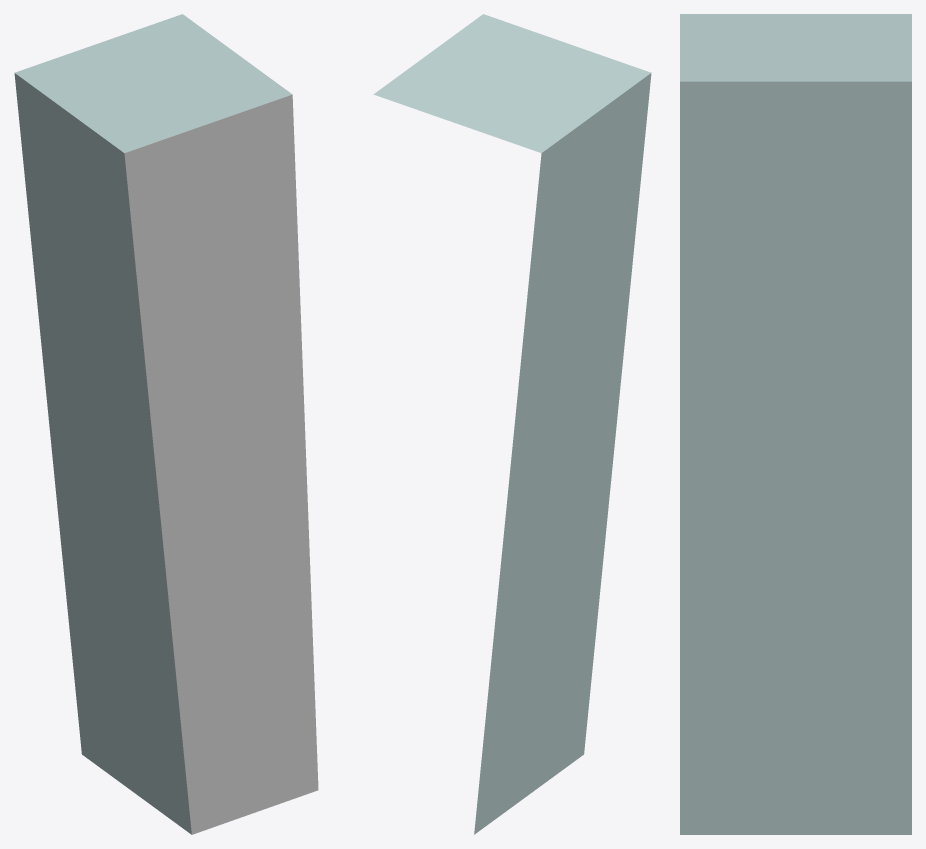
3 views of the same model, side by side, from view 1: azimuth 30°, elevation 25°; view 2: azimuth 150°, elevation 25°; view 3: azimuth 270°, elevation 25° (orthographic). The views are drawn at different scales.
Visible parts, largest first — view 1: 0_2_3_2_3_1_2_3_1; view 2: 0_2_3_2_3_1_2_3_1; view 3: 0_2_3_2_3_1_2_3_1.
Boxes of the visible parts, left/top/right/bottom form: 0_2_3_2_3_1_2_3_1: left=14, top=14, right=318, bottom=834; 0_2_3_2_3_1_2_3_1: left=373, top=14, right=651, bottom=834; 0_2_3_2_3_1_2_3_1: left=680, top=14, right=911, bottom=834.
Bounding box in the file's own units: 3.06 × 10.77 × 3.
